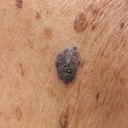Melanoma: (53, 45, 82, 85)
